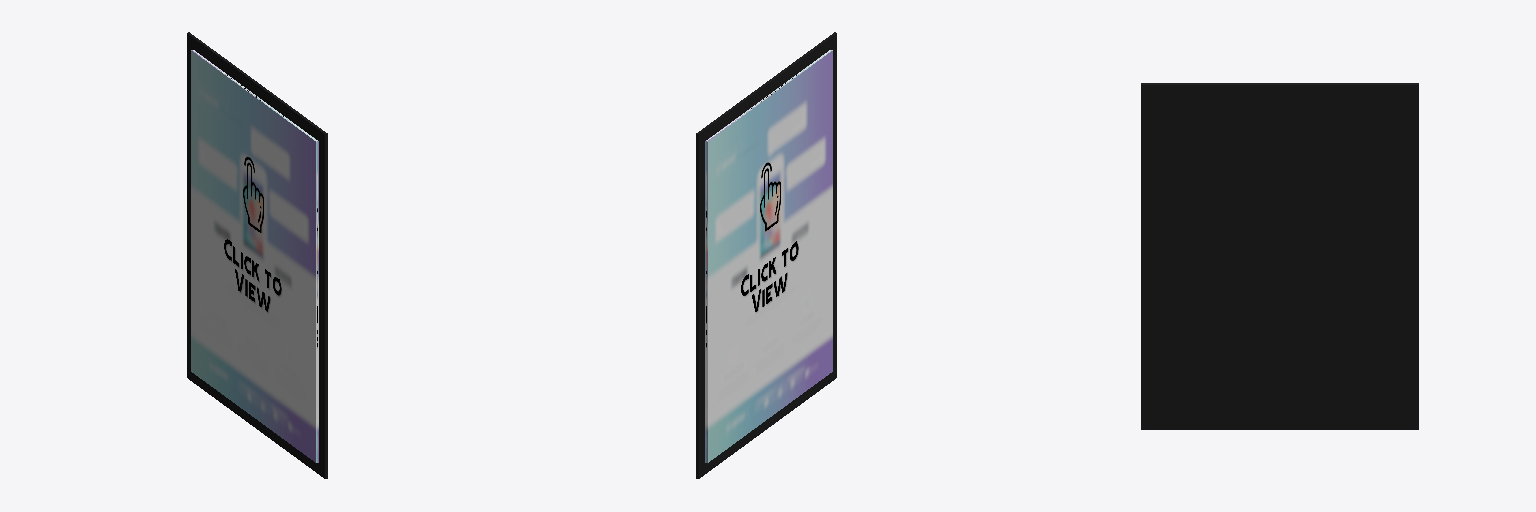
3 renders of one model, left to right at view 1: azimuth 30°, elevation 25°; view 2: azimuth 150°, elevation 25°; view 3: azimuth 270°, elevation 25°, orthographic.
Visible parts, largest first — view 1: Cube_3_5_Untitled.077, Cube_4_5_Untitled.456; view 2: Cube_3_5_Untitled.077, Cube_4_5_Untitled.456; view 3: Cube_4_5_Untitled.456.
Boxes of the visible parts, box(x1,y1,x2,y2) form: Cube_3_5_Untitled.077: box(191, 50, 318, 462); Cube_4_5_Untitled.456: box(187, 32, 327, 478); Cube_3_5_Untitled.077: box(705, 50, 832, 462); Cube_4_5_Untitled.456: box(696, 32, 836, 478); Cube_4_5_Untitled.456: box(1141, 83, 1418, 429).
Size of the model in its own units: 0.0193 by 1.28 by 0.9302.
2 materials, 1 textured.